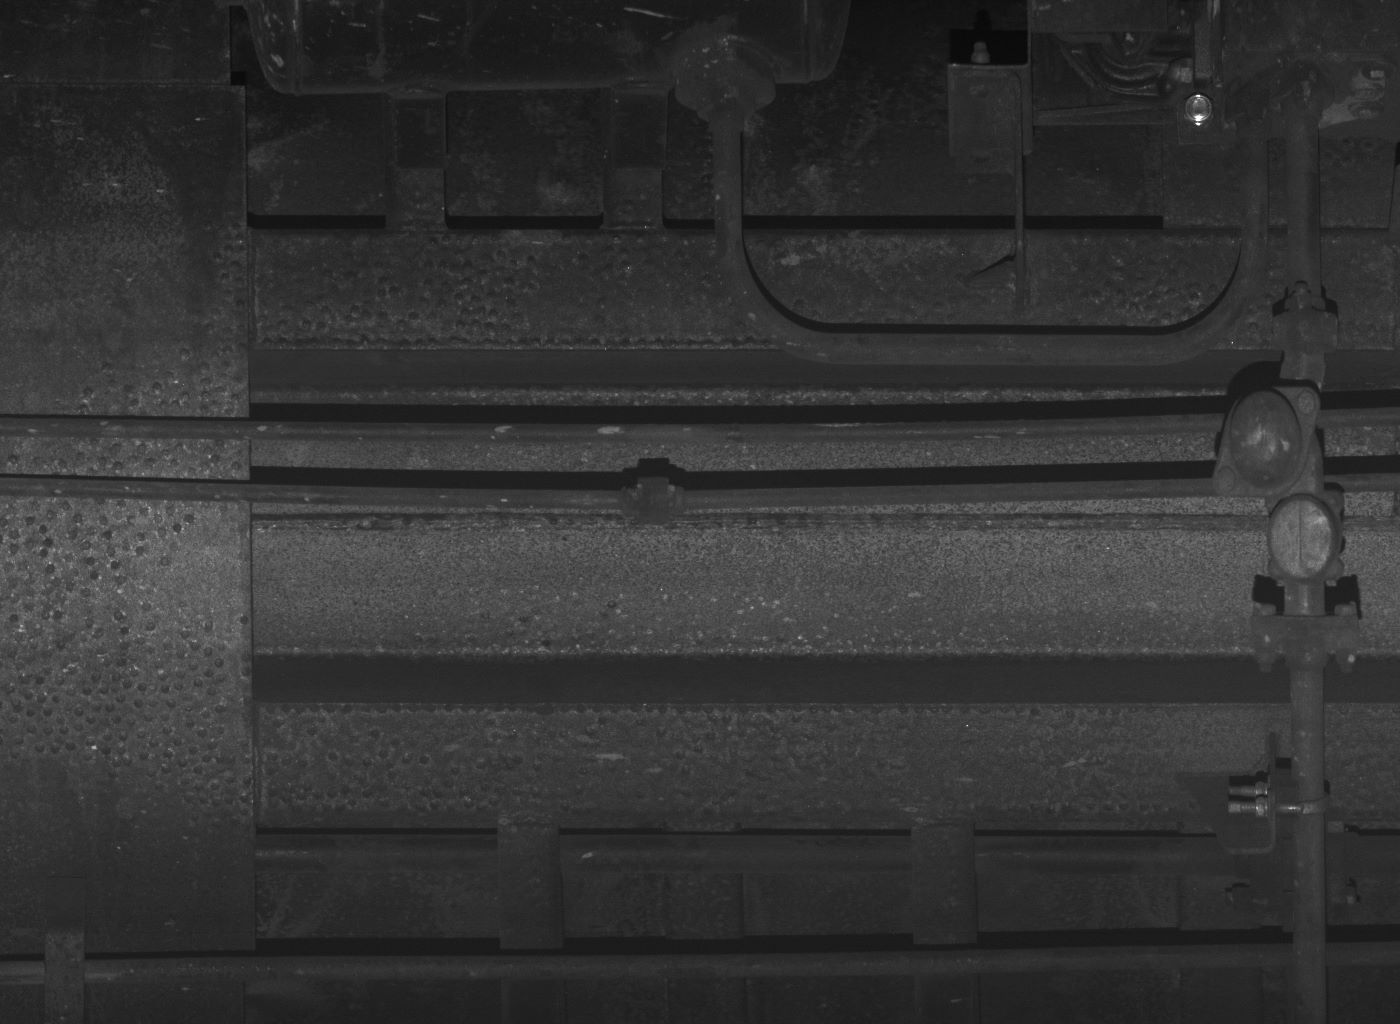normal: (1265, 484, 1346, 583)
